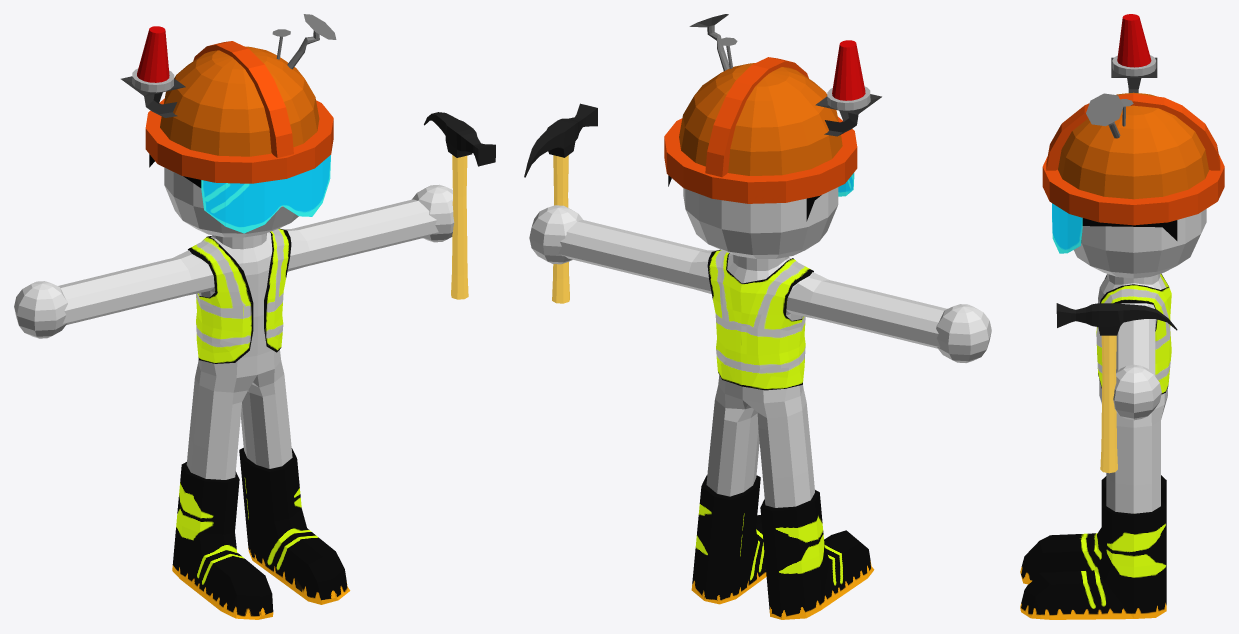
Rendered from markous.glb.
3 views of the same model, side by side, from view 1: azimuth 30°, elevation 25°; view 2: azimuth 150°, elevation 25°; view 3: azimuth 270°, elevation 25° (orthographic). The views are drawn at different scales.
Parts seen in each view (by area): view 1: Circle.002; view 2: Circle.002; view 3: Circle.002.
Part boxes in pixels (<box>): Circle.002: <box>14,14,495,619</box>; Circle.002: <box>524,14,991,619</box>; Circle.002: <box>1020,14,1224,619</box>.
Bounding box in the file's own units: 4.49 × 5.41 × 1.86.
Materials: 14 (4 with a texture image).
